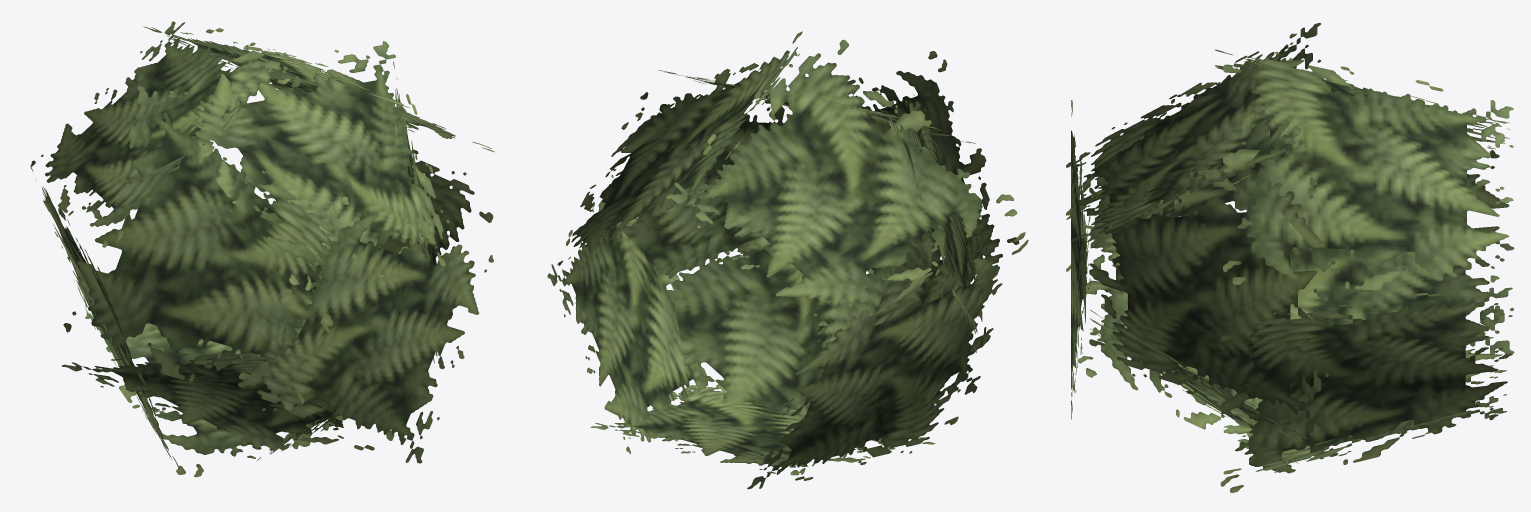
Rendered from bush-big-10-fern.obj.
3 renders of one model, left to right at view 1: azimuth 30°, elevation 25°; view 2: azimuth 150°, elevation 25°; view 3: azimuth 270°, elevation 25°, orthographic.
Size of the model in its own units: 1.3 by 1.35 by 1.24.
Materials: 1 (1 with a texture image).
